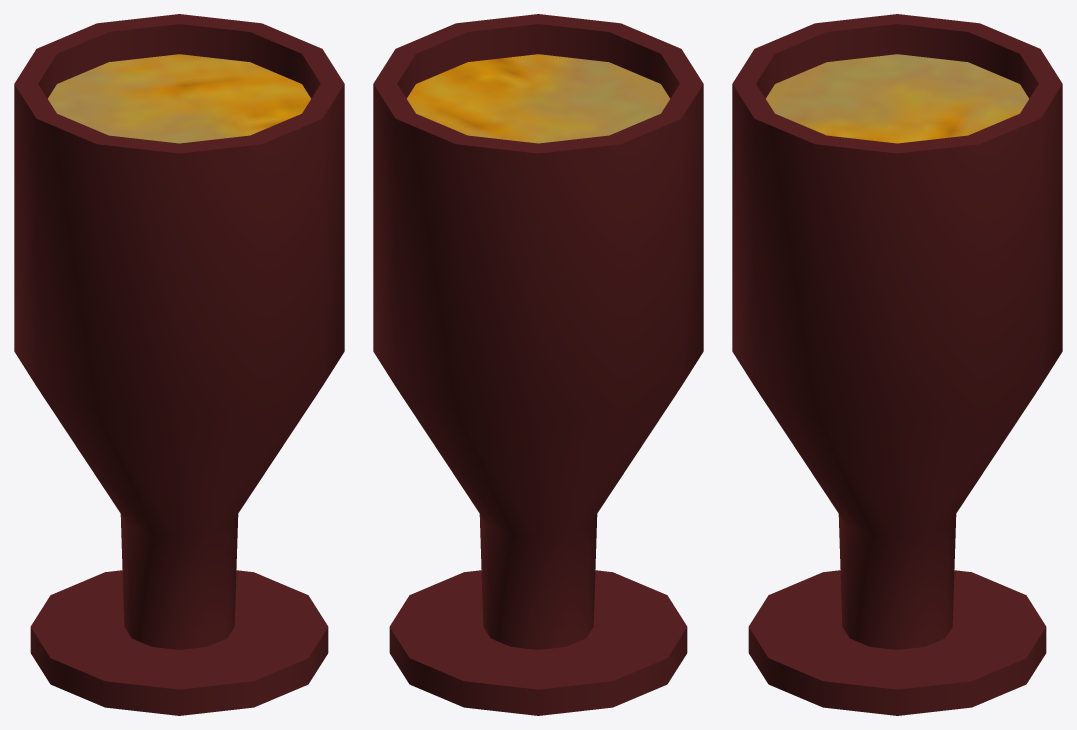
File: glassware-05.fbx
3 views of the same model, side by side, from view 1: azimuth 30°, elevation 25°; view 2: azimuth 150°, elevation 25°; view 3: azimuth 270°, elevation 25° (orthographic).
Parts seen in each view (by area): view 1: Cylinder.054; view 2: Cylinder.054; view 3: Cylinder.054.
Part boxes in pixels (x1,y1,x2,y2): Cylinder.054: [14, 14, 344, 715]; Cylinder.054: [373, 14, 703, 715]; Cylinder.054: [732, 14, 1062, 715].
Bounding box in the file's own units: 0.0759 × 0.1444 × 0.0759.
